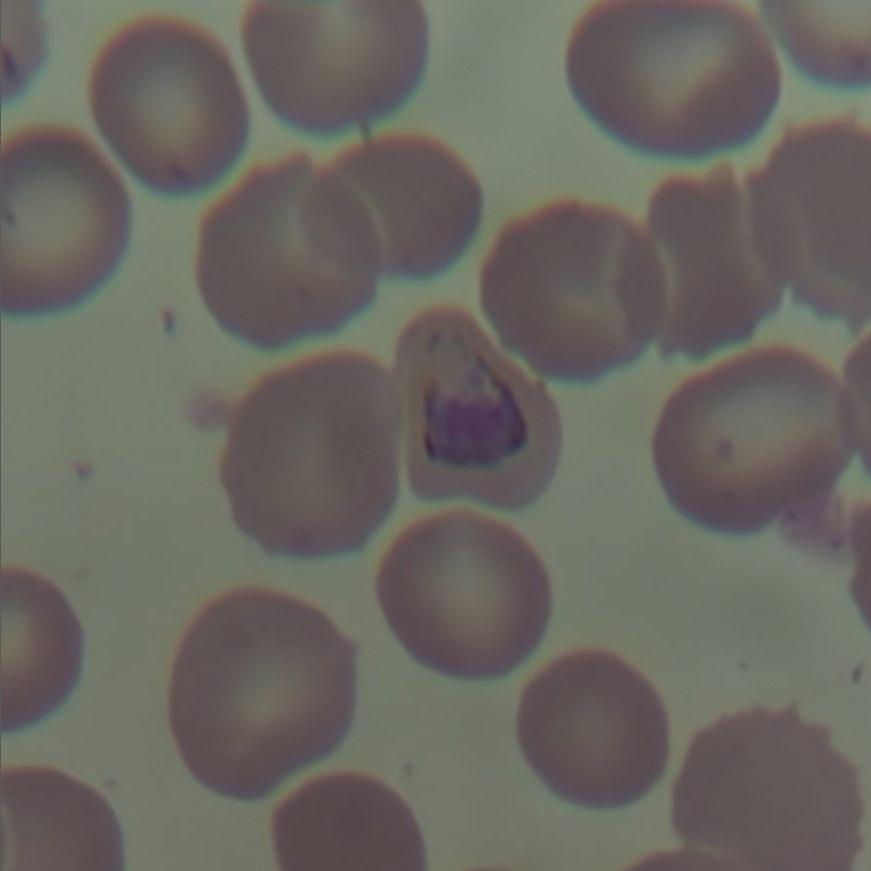Infected: (397, 304, 568, 511)
Uninfected: (165, 585, 360, 803), (657, 347, 860, 537), (223, 349, 402, 555), (195, 155, 386, 347), (483, 195, 668, 380), (565, 0, 778, 155), (667, 702, 862, 871), (373, 512, 550, 681), (637, 169, 793, 358), (90, 17, 250, 194), (302, 134, 486, 279), (243, 0, 429, 136), (515, 647, 669, 807), (0, 127, 128, 315), (752, 127, 871, 326), (270, 769, 428, 871)
